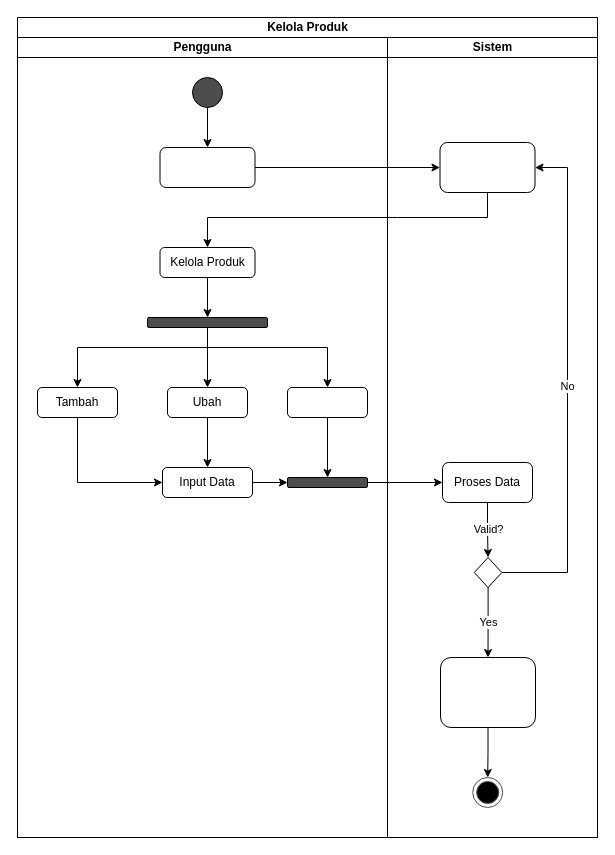
This 615x855 diagram has some shape labels left out. The centre of each missing label's shape, as x and y in pixels:
Hapus: (327,402)
Menampilkan Halaman kelola produk: (487,167)
Menampilkan pesan sukses: (488,692)
Pilih menu kelola produk: (207,167)
